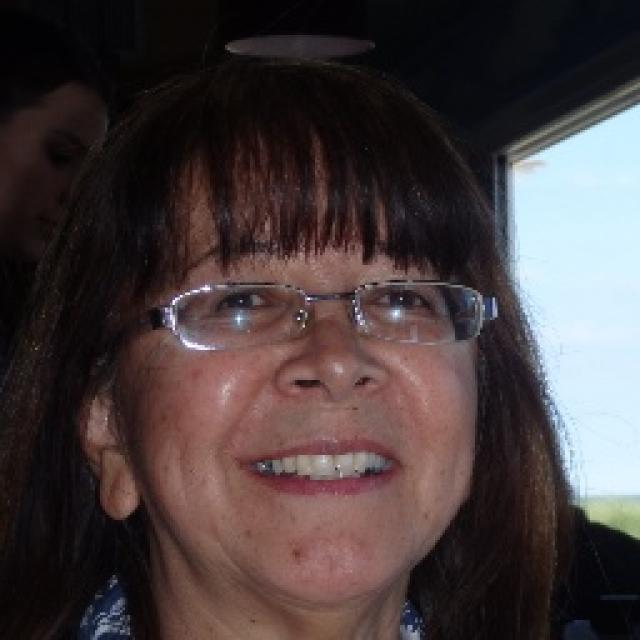earlobe: (94, 475, 146, 520)
eye: (213, 288, 281, 316), (370, 286, 433, 314)
nose: (279, 380, 386, 436)
wholeear: (76, 366, 148, 522)
